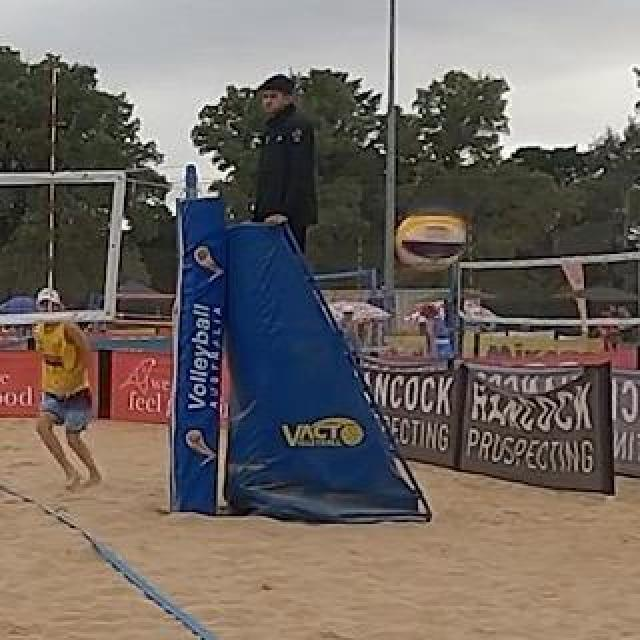volleyball: (398, 208, 470, 274)
